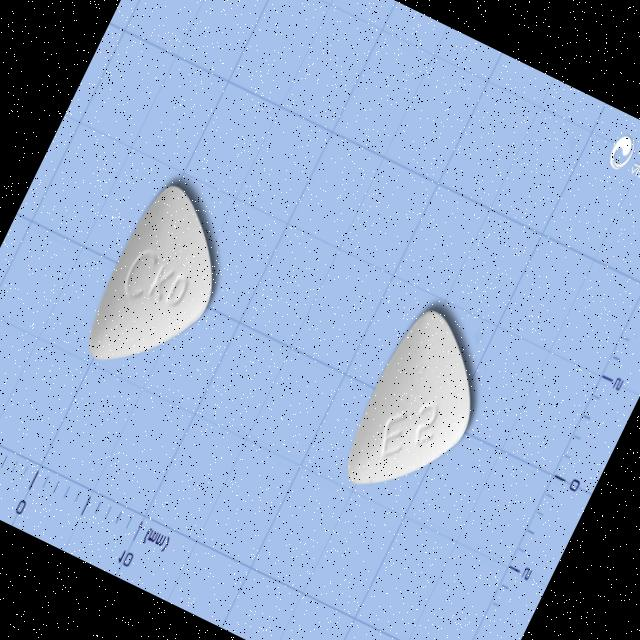Entecabell - 1mg: (72, 175, 249, 395), (332, 303, 507, 518)
